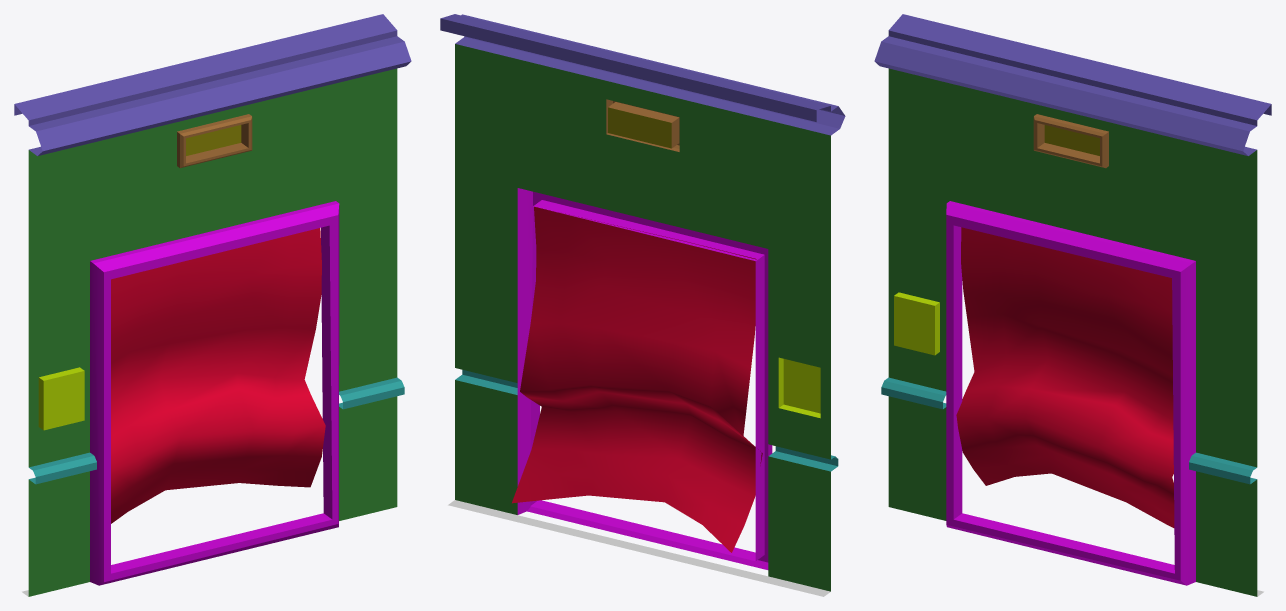
The model's file is R_doorWay.fbx.
The picture shows the model from 3 angles, left to right: view 1: azimuth 30°, elevation 25°; view 2: azimuth 150°, elevation 25°; view 3: azimuth 330°, elevation 25°; orthographic projection.
Visible parts, largest first — view 1: R_doorWay; view 2: R_doorWay; view 3: R_doorWay.
Boxes of the visible parts, x1=… form: R_doorWay: x1=14, y1=14, x2=411, y2=596; R_doorWay: x1=440, y1=14, x2=845, y2=596; R_doorWay: x1=874, y1=14, x2=1271, y2=596.
Size of the model in its own units: 215 by 269 by 30.33.
